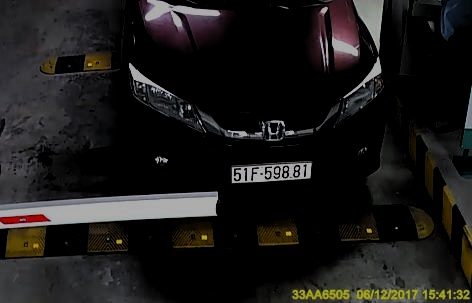plate: (225, 155, 311, 185)
